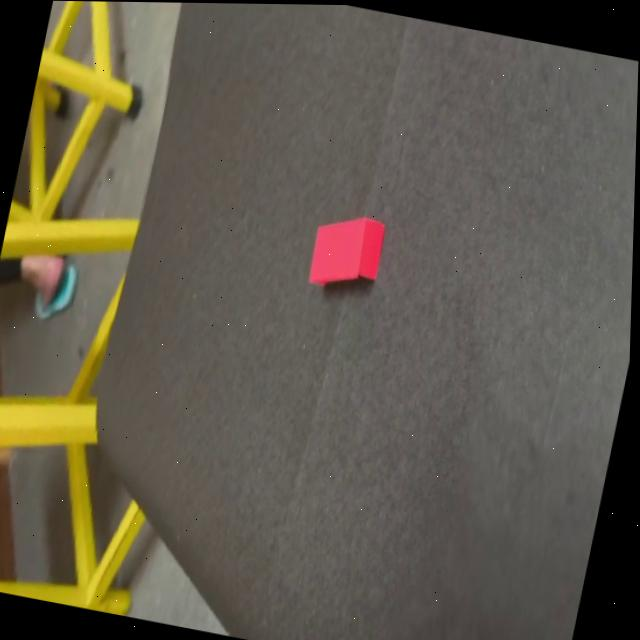red block: (303, 207, 386, 297)
